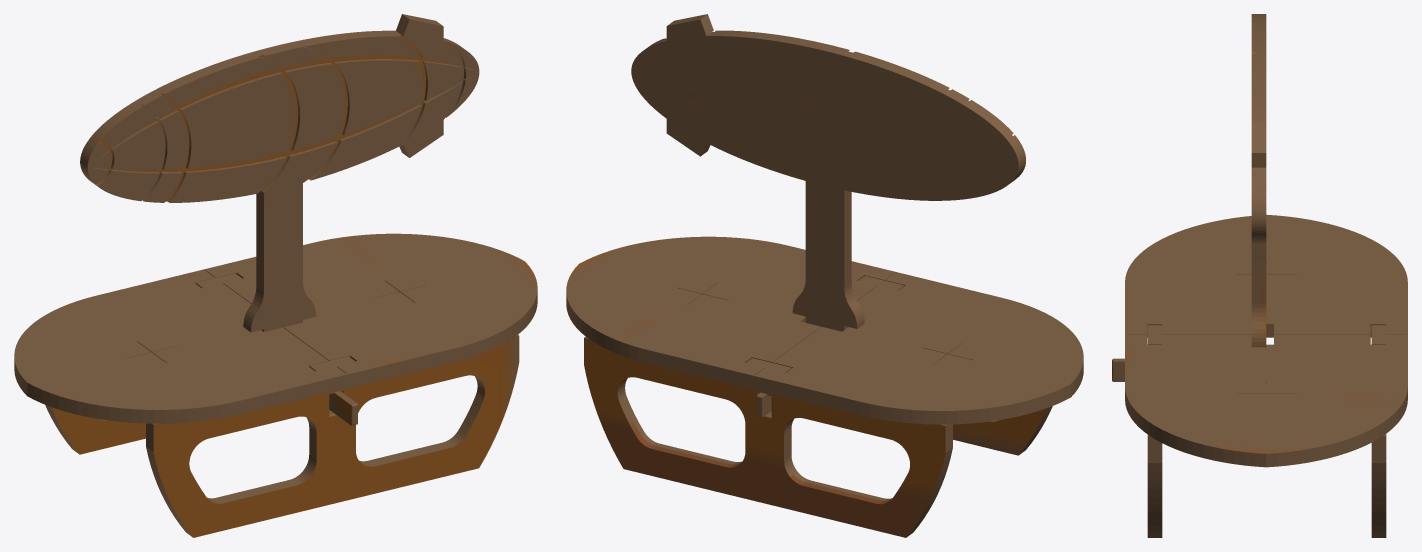
File: airship.glb
3 views of the same model, side by side, from view 1: azimuth 30°, elevation 25°; view 2: azimuth 150°, elevation 25°; view 3: azimuth 270°, elevation 25° (orthographic).
Parts seen in each view (by area): view 1: Airship_Balloon_v8_v1; view 2: Airship_Balloon_v8_v1; view 3: Airship_Balloon_v8_v1.
Part boxes in pixels (x1,y1,x2,y2): Airship_Balloon_v8_v1: [14, 14, 537, 537]; Airship_Balloon_v8_v1: [566, 14, 1083, 537]; Airship_Balloon_v8_v1: [1112, 14, 1407, 537].
Bounding box in the file's own units: 7.62 × 6.06 × 3.98.
1 material, 1 textured.
